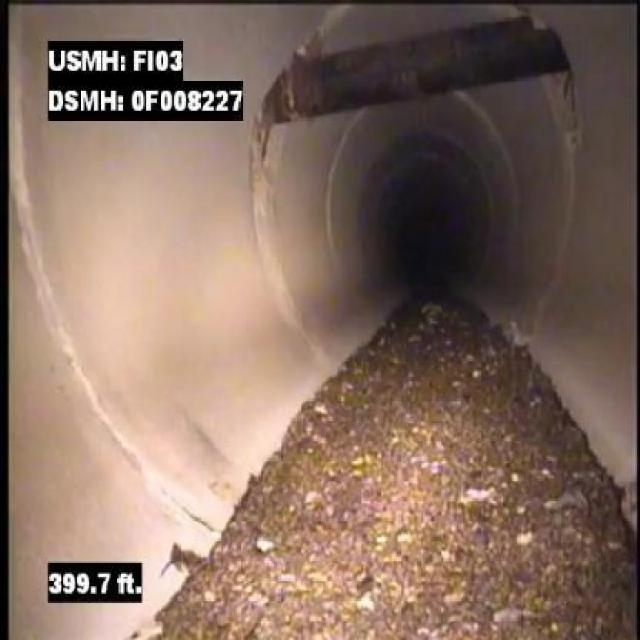Debris: (219, 403, 626, 609)
Utility intrusion: (260, 17, 568, 128)
